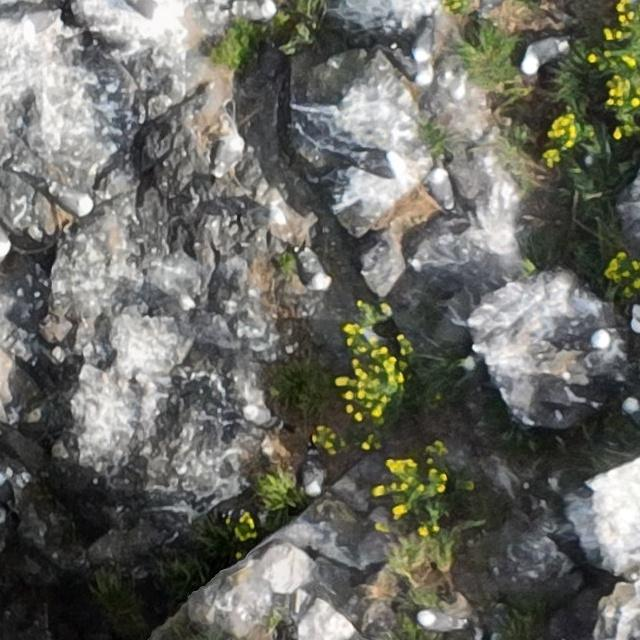umineko: (358, 146, 408, 182), (522, 39, 569, 76), (46, 181, 94, 215), (390, 48, 434, 83), (431, 166, 459, 218), (416, 609, 474, 634), (216, 133, 248, 178), (296, 248, 328, 292), (302, 448, 327, 501), (243, 406, 288, 430), (565, 329, 609, 353), (413, 22, 437, 63), (623, 395, 639, 421)
